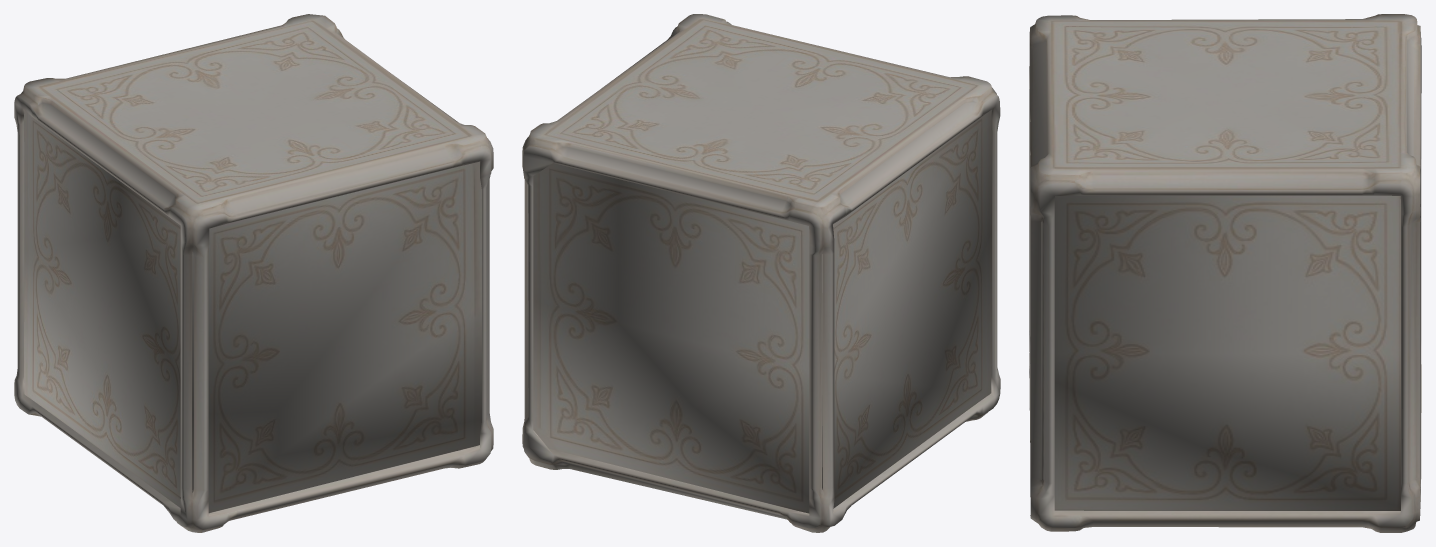
The model's file is tripo_convert_136dc119-9720-4a40-8fed-844a48551edc.fbx.
3 views of the same model, side by side, from view 1: azimuth 30°, elevation 25°; view 2: azimuth 150°, elevation 25°; view 3: azimuth 270°, elevation 25° (orthographic). The views are drawn at different scales.
Visible parts, largest first — view 1: tripo_node_136dc119; view 2: tripo_node_136dc119; view 3: tripo_node_136dc119.
Part boxes in pixels (left/top/right/bottom): tripo_node_136dc119: left=14, top=14, right=493, bottom=532; tripo_node_136dc119: left=522, top=14, right=1000, bottom=532; tripo_node_136dc119: left=1029, top=14, right=1421, bottom=532.
Size of the model in its own units: 0.9868 by 0.9995 by 0.9888.
1 material, 1 textured.
